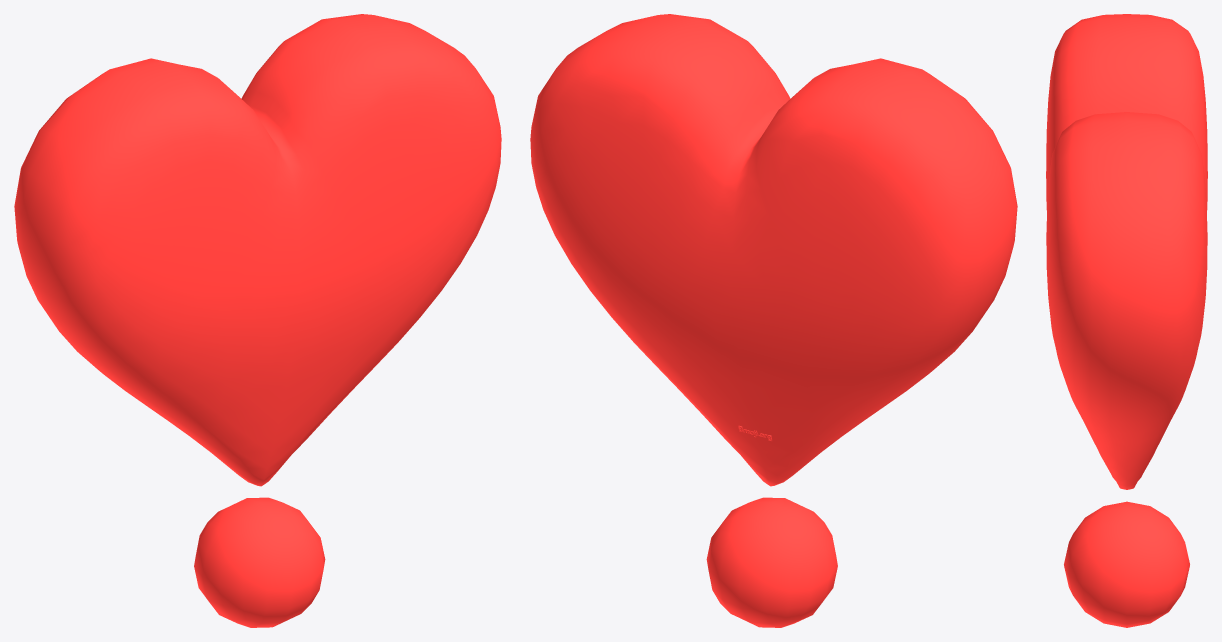
Rendered from heart_exclamation.gltf.
The picture shows the model from 3 angles, left to right: view 1: azimuth 30°, elevation 25°; view 2: azimuth 150°, elevation 25°; view 3: azimuth 270°, elevation 25°; orthographic projection. The views are drawn at different scales.
Parts seen in each view (by area): view 1: hfdjkslfjkds.014; view 2: hfdjkslfjkds.014; view 3: hfdjkslfjkds.014.
Part boxes in pixels (left/top/right/bottom): hfdjkslfjkds.014: left=14, top=14, right=501, bottom=627; hfdjkslfjkds.014: left=530, top=14, right=1017, bottom=627; hfdjkslfjkds.014: left=1046, top=14, right=1207, bottom=627.
Bounding box in the file's own units: 1.69 × 2.02 × 0.5434.
1 material, 1 textured.
